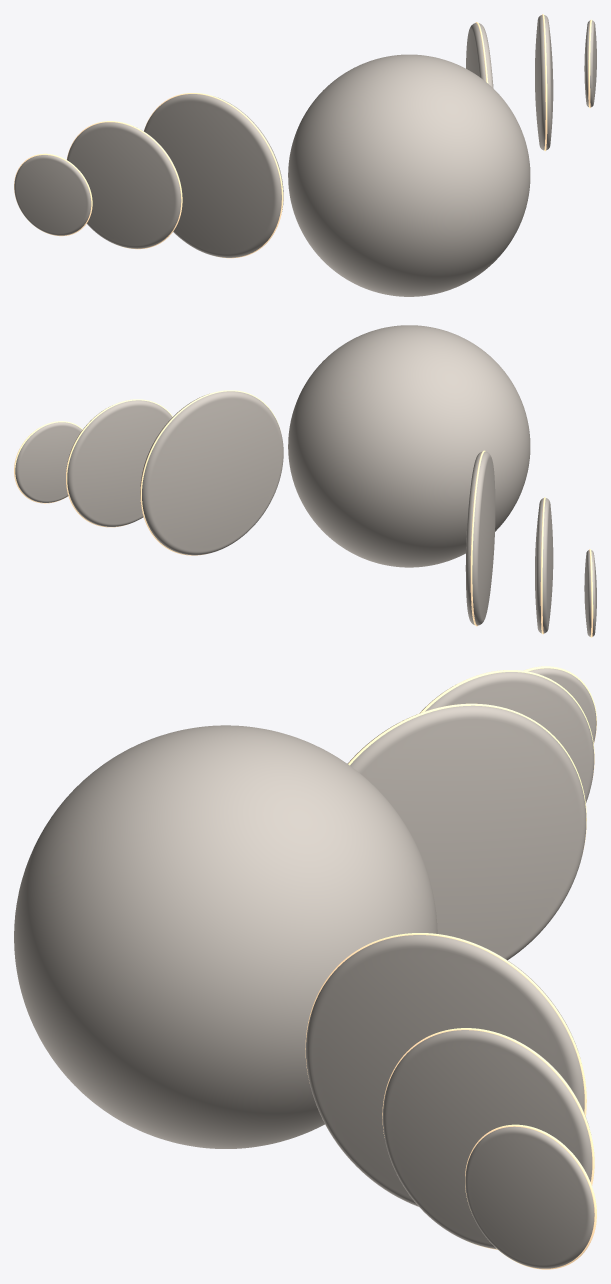
File: aurlynn_acoustic_sphere.glb
3 views of the same model, one above another, from view 1: azimuth 30°, elevation 25°; view 2: azimuth 150°, elevation 25°; view 3: azimuth 270°, elevation 25° (orthographic). The views are drawn at different scales.
Parts seen in each view (by area): view 1: CentralSphere_OpticalGlass, LeftDisc01_Glass_1.8m, LeftDisc02_Glass_1.4m, LeftDisc03_Glass_0.9m, RightDisc02_Glass_1.4m, RightDisc01_Glass_1.8m, RightDisc03_Glass_0.9m, LeftDisc01_ChampagneEdge, LeftDisc02_ChampagneEdge; view 2: CentralSphere_OpticalGlass, RightDisc01_Glass_1.8m, RightDisc02_Glass_1.4m, LeftDisc01_Glass_1.8m, RightDisc03_Glass_0.9m, LeftDisc02_Glass_1.4m, LeftDisc03_Glass_0.9m, RightDisc01_ChampagneEdge, LeftDisc01_ChampagneEdge, RightDisc02_ChampagneEdge; view 3: CentralSphere_OpticalGlass, LeftDisc01_Glass_1.8m, RightDisc01_Glass_1.8m, RightDisc02_Glass_1.4m, RightDisc03_Glass_0.9m, LeftDisc02_Glass_1.4m, LeftDisc03_Glass_0.9m, RightDisc01_ChampagneEdge, RightDisc02_ChampagneEdge, RightDisc03_ChampagneEdge, LeftDisc01_ChampagneEdge.
Part boxes in pixels (x1,y1,x2,y2): CentralSphere_OpticalGlass: (288,54,530,296); LeftDisc01_Glass_1.8m: (144,94,283,257); LeftDisc02_Glass_1.4m: (67,122,182,248); LeftDisc03_Glass_0.9m: (14,155,91,235); RightDisc02_Glass_1.4m: (535,15,553,150); RightDisc01_Glass_1.8m: (466,23,493,88); RightDisc03_Glass_0.9m: (584,20,596,107); LeftDisc01_ChampagneEdge: (145,93,283,258); LeftDisc02_ChampagneEdge: (66,121,182,249); CentralSphere_OpticalGlass: (288,325,530,567); RightDisc01_Glass_1.8m: (140,391,283,555); RightDisc02_Glass_1.4m: (66,400,172,526); LeftDisc01_Glass_1.8m: (465,451,495,625); RightDisc03_Glass_0.9m: (15,422,81,502); LeftDisc02_Glass_1.4m: (535,498,553,633); LeftDisc03_Glass_0.9m: (584,550,596,636); RightDisc01_ChampagneEdge: (140,390,279,555); LeftDisc01_ChampagneEdge: (470,450,485,626); RightDisc02_ChampagneEdge: (66,399,172,527); CentralSphere_OpticalGlass: (14,725,437,1148); LeftDisc01_Glass_1.8m: (347,705,586,960); RightDisc01_Glass_1.8m: (306,935,584,1206); RightDisc02_Glass_1.4m: (382,1030,592,1249); RightDisc03_Glass_0.9m: (465,1126,594,1268); LeftDisc02_Glass_1.4m: (419,672,594,802); LeftDisc03_Glass_0.9m: (528,668,596,743); RightDisc01_ChampagneEdge: (305,933,586,1116); RightDisc02_ChampagneEdge: (382,1028,594,1249); RightDisc03_ChampagneEdge: (465,1124,596,1269); LeftDisc01_ChampagneEdge: (348,703,586,848).
Bounding box in the file's own units: 6.91 × 2.5 × 3.44.
